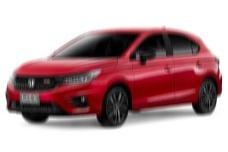Car hood: (14, 56, 119, 75)
Fender - -F-L-: (99, 52, 138, 108)
Fender - -R-L-: (197, 44, 220, 96)
Front bumper: (5, 81, 110, 116)
Headlight - -L-: (59, 67, 103, 86)
Passenger-s door - -F-L-: (125, 27, 177, 114)
Passenger-s door - -R-L-: (164, 27, 206, 112)
Side bumper - -L-: (129, 86, 201, 117)
Side mirror - -L-: (137, 50, 157, 65)
